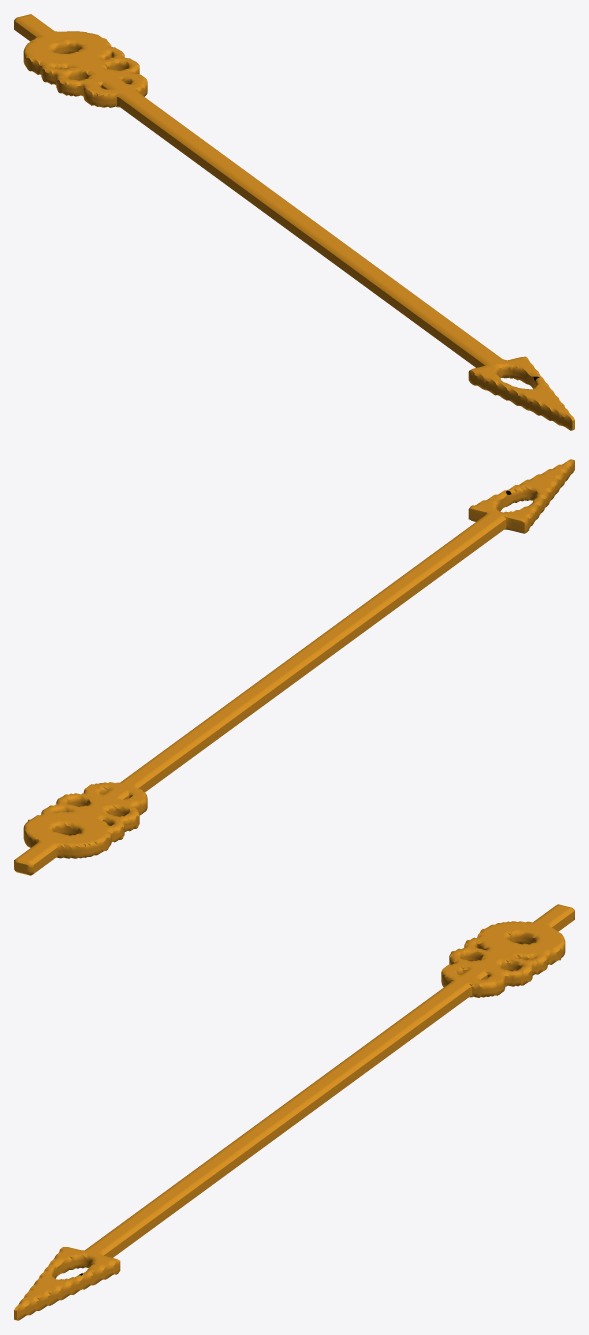
File: minute_hand_for_clock.glb
3 renders of one model, top to bottom at view 1: azimuth 30°, elevation 25°; view 2: azimuth 150°, elevation 25°; view 3: azimuth 330°, elevation 25°, orthographic.
Parts seen in each view (by area): view 1: Object_2; view 2: Object_2; view 3: Object_2.
Part boxes in pixels (<box>): Object_2: <box>14,14,574,430</box>; Object_2: <box>14,459,574,875</box>; Object_2: <box>14,904,574,1320</box>.
Size of the model in its own units: 8.98 by 1.5 by 109.
